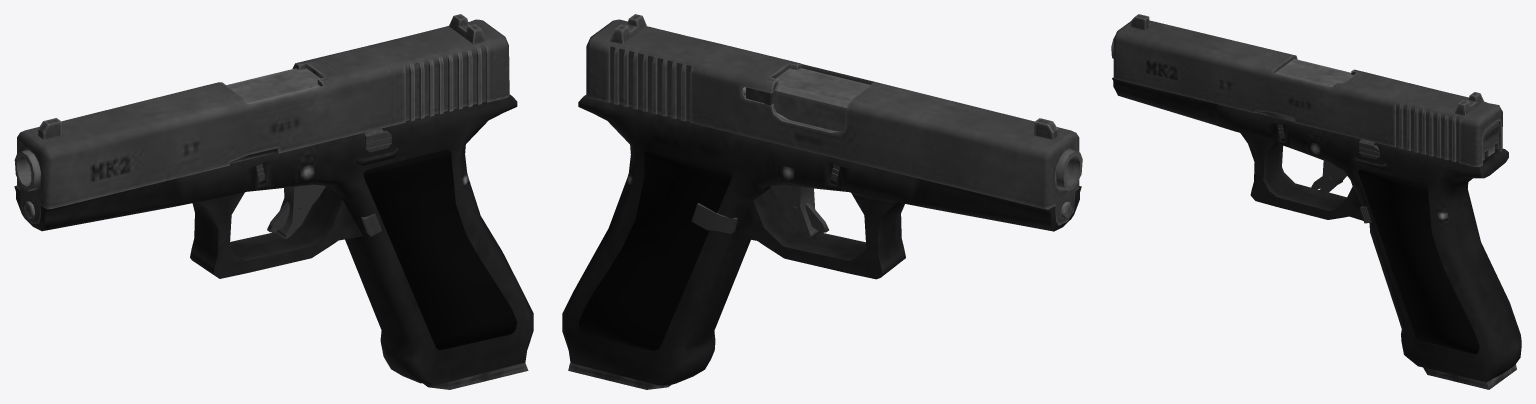
File: pistol_9mm.glb
The picture shows the model from 3 angles, left to right: view 1: azimuth 30°, elevation 25°; view 2: azimuth 150°, elevation 25°; view 3: azimuth 330°, elevation 25°; orthographic projection. The views are drawn at different scales.
Bounding box in the file's own units: 2.4 × 1.58 × 0.3326.
Materials: 2 (2 with a texture image).
